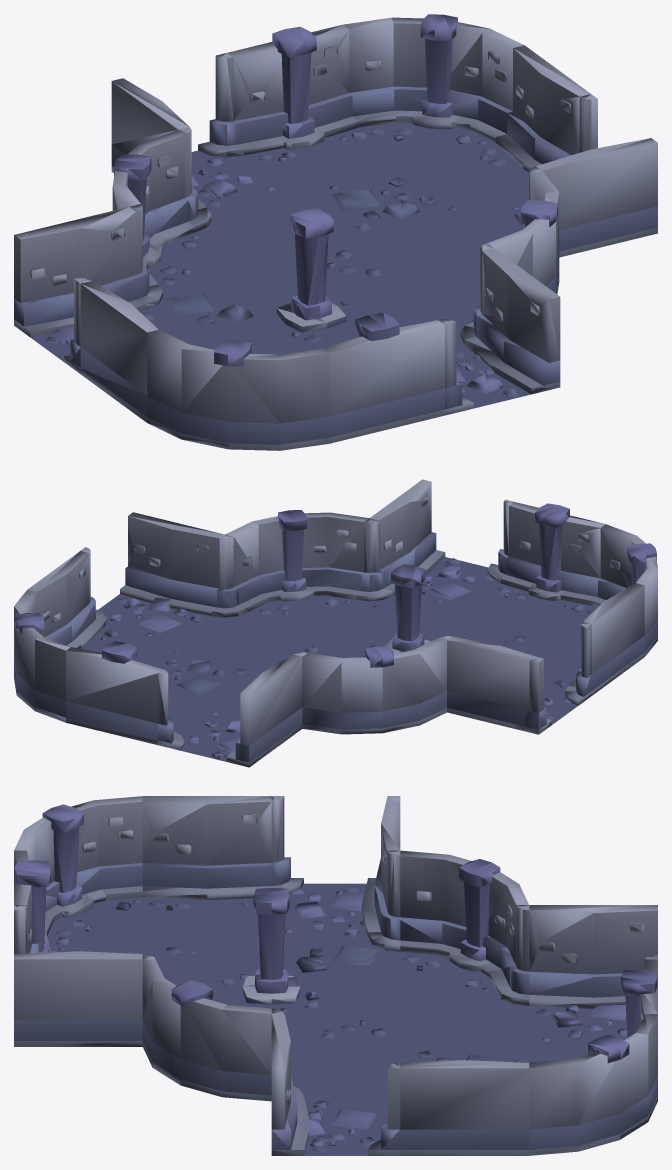
Rendered from room-large-variation_lev2.glb.
3 views of the same model, one above another, from view 1: azimuth 30°, elevation 25°; view 2: azimuth 150°, elevation 25°; view 3: azimuth 270°, elevation 25° (orthographic). The views are drawn at different scales.
Parts seen in each view (by area): view 1: room-large-variation_lev2; view 2: room-large-variation_lev2; view 3: room-large-variation_lev2.
Part boxes in pixels (x1,y1,x2,y2): room-large-variation_lev2: [14, 14, 657, 450]; room-large-variation_lev2: [14, 479, 657, 767]; room-large-variation_lev2: [14, 796, 657, 1155].
Bounding box in the file's own units: 20 × 3.33 × 20.
Materials: 1 (1 with a texture image).
